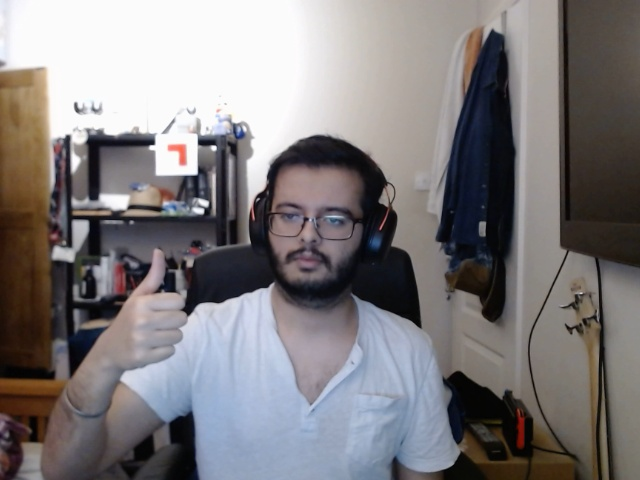Thumbs up: (101, 248, 195, 373)
